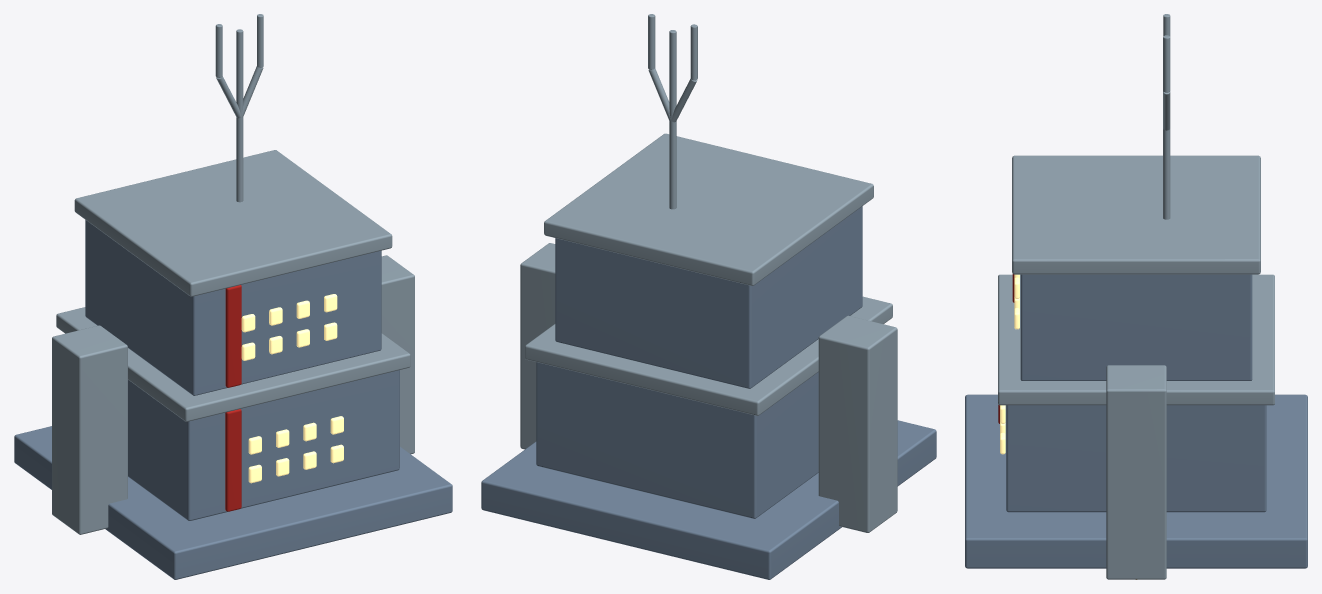
3 renders of one model, left to right at view 1: azimuth 30°, elevation 25°; view 2: azimuth 150°, elevation 25°; view 3: azimuth 270°, elevation 25°, orthographic. The views are drawn at different scales.
Visible parts, largest first — view 1: Block roof ledge.001, Modular block storey.001, Modular block storey, Foundation slab, Block buttress.001, Block roof ledge, Block buttress, Vertical block colour strip.001, Vertical block colour strip, Aerial stem; view 2: Modular block storey.001, Modular block storey, Block roof ledge.001, Foundation slab, Block buttress.001, Block roof ledge, Block buttress, Aerial stem; view 3: Block roof ledge.001, Foundation slab, Modular block storey.001, Modular block storey, Block buttress, Block roof ledge, Aerial stem, Aerial fork tine.001.
Part boxes in pixels (x1,y1,x2,y2): Block roof ledge.001: (74, 150, 392, 296); Modular block storey.001: (85, 220, 381, 395); Modular block storey: (128, 370, 399, 520); Foundation slab: (14, 426, 452, 579); Block buttress.001: (52, 325, 127, 534); Block roof ledge: (56, 307, 410, 421); Block buttress: (381, 255, 414, 454); Vertical block colour strip.001: (225, 285, 241, 387); Vertical block colour strip: (225, 409, 241, 511); Aerial stem: (236, 29, 243, 202); Modular block storey.001: (555, 206, 862, 388); Modular block storey: (536, 362, 818, 518); Block roof ledge.001: (544, 133, 873, 285); Foundation slab: (481, 420, 936, 579); Block buttress.001: (818, 315, 897, 532); Block roof ledge: (525, 296, 892, 415); Block buttress: (520, 243, 555, 449); Aerial stem: (669, 30, 676, 209); Block roof ledge.001: (1012, 155, 1260, 274); Foundation slab: (965, 394, 1307, 568); Modular block storey.001: (1020, 274, 1252, 380); Modular block storey: (1006, 405, 1266, 512); Block buttress: (1106, 365, 1166, 579); Block roof ledge: (998, 274, 1274, 405); Aerial stem: (1163, 37, 1170, 219); Aerial fork tine.001: (1163, 35, 1170, 92).
Bounding box in the file's own units: 2.46 × 3.16 × 2.04.
